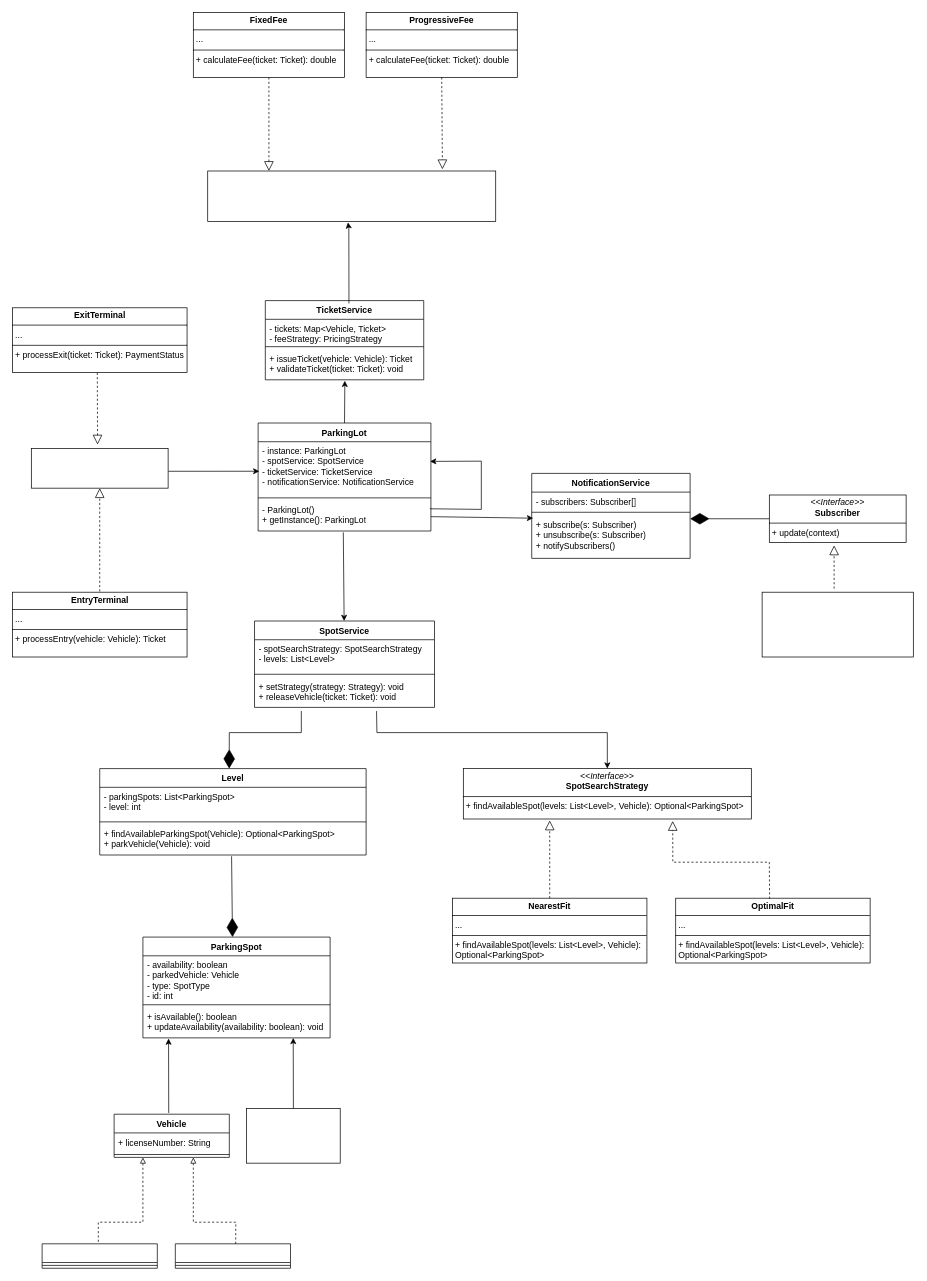
The diagram is 927 pixels wide and 1281 high, and some of its shapes have lost their labels. Each missing label, with the centre of its shape:
<<enumeration>> SpotType + COMPACT + LARGE: (293,1135)
<<Interface>> PricingStrategy + calculateFee(ticket: Ticket): double: (351,195)
Car: (99,1255)
DisplayBoard ... + update(context) + displayAvailableSpotsNumber(): (837,624)
Terminal - terminalId: String: (99,468)
Truck: (233,1255)
